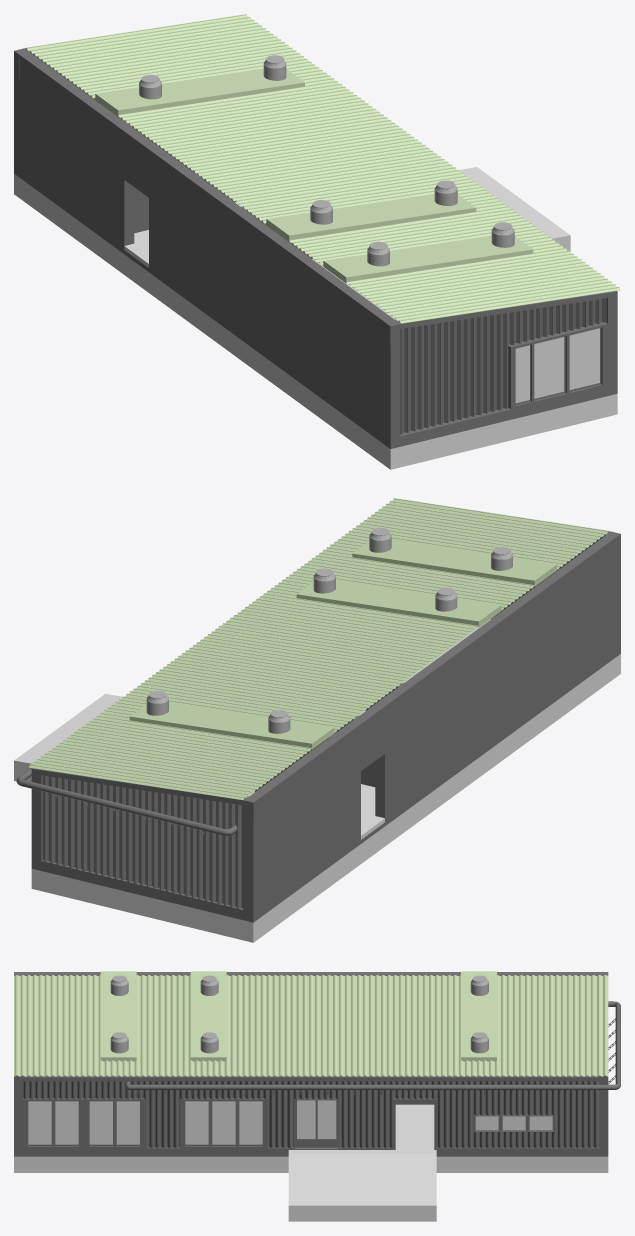
File: ttu front buildings.fbx
The picture shows the model from 3 angles, top to bottom: view 1: azimuth 30°, elevation 25°; view 2: azimuth 150°, elevation 25°; view 3: azimuth 270°, elevation 25°; orthographic projection. The views are drawn at different scales.
Visible parts, largest first — view 1: Plane.005, Cube.015, Cube.031, Plane.002, Cube.096, Cube.048, Cube.006, Cube.043, Cube.021, Cube.018, Cube.004; view 2: Plane.005, Cube.015, Plane.002, Cube.031, Cube.096, Cube.048, Cube.043, Cube.021, Vert, Cube.004, Cube.007; view 3: Plane.005, Plane.002, Cube.021, Cube.031, Cube.096, Cube.037, Cube.048, Cube.036, Vert, Cube.043, Cube.016, Cube.004 (+3 smaller).
Boxes of the visible parts, x1,y1,x2,y2 form: Plane.005: (25, 14, 620, 323); Cube.015: (14, 60, 617, 444); Cube.031: (95, 55, 533, 283); Plane.002: (400, 298, 606, 434); Cube.096: (14, 174, 617, 469); Cube.048: (14, 48, 617, 351); Cube.006: (508, 322, 607, 409); Cube.043: (14, 165, 617, 448); Cube.021: (459, 167, 570, 251); Cube.018: (400, 386, 607, 438); Cube.004: (124, 202, 396, 319); Plane.005: (29, 498, 609, 800); Cube.015: (31, 543, 620, 917); Plane.002: (43, 775, 243, 909); Cube.031: (129, 528, 556, 749); Cube.096: (31, 654, 620, 942); Cube.048: (31, 531, 620, 827); Cube.043: (31, 646, 620, 922); Cube.021: (14, 694, 122, 781); Vert: (16, 768, 237, 835); Cube.004: (248, 619, 490, 839); Cube.007: (41, 859, 243, 911); Plane.005: (14, 975, 608, 1076); Plane.002: (23, 1081, 599, 1148); Cube.021: (288, 1150, 436, 1221); Cube.031: (100, 971, 496, 1061); Cube.096: (14, 1156, 608, 1172); Cube.037: (23, 1098, 145, 1148); Cube.048: (14, 972, 608, 1081); Cube.036: (180, 1098, 267, 1148); Vert: (125, 1001, 620, 1089); Cube.043: (14, 1148, 608, 1156); Cube.016: (294, 1098, 339, 1149); Cube.004: (395, 1104, 434, 1149).
Bounding box in the file's own units: 1793 × 783 × 3370.
